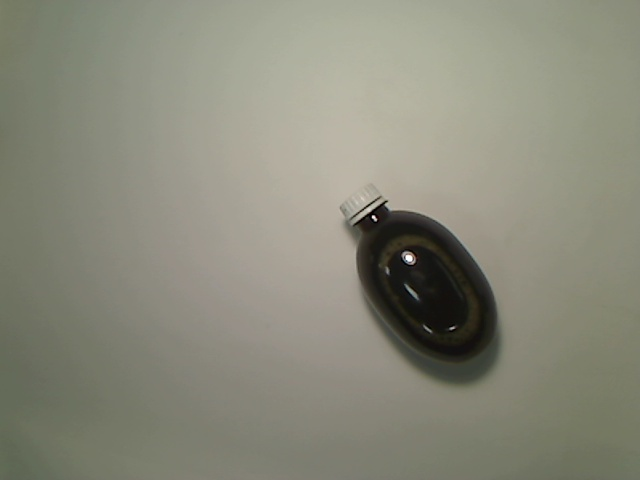plast_bottle: (336, 181, 501, 367)
